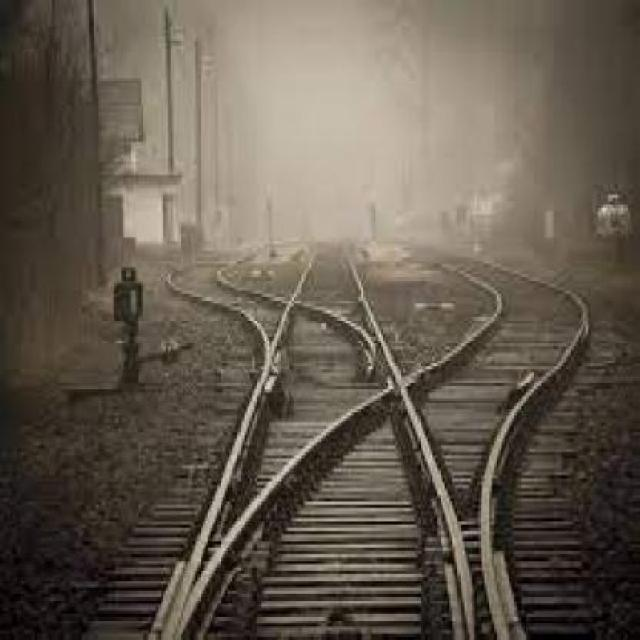rail: (84, 235, 604, 635)
